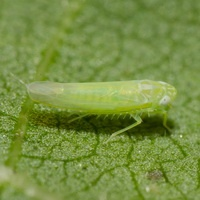insect: (12, 75, 176, 143)
